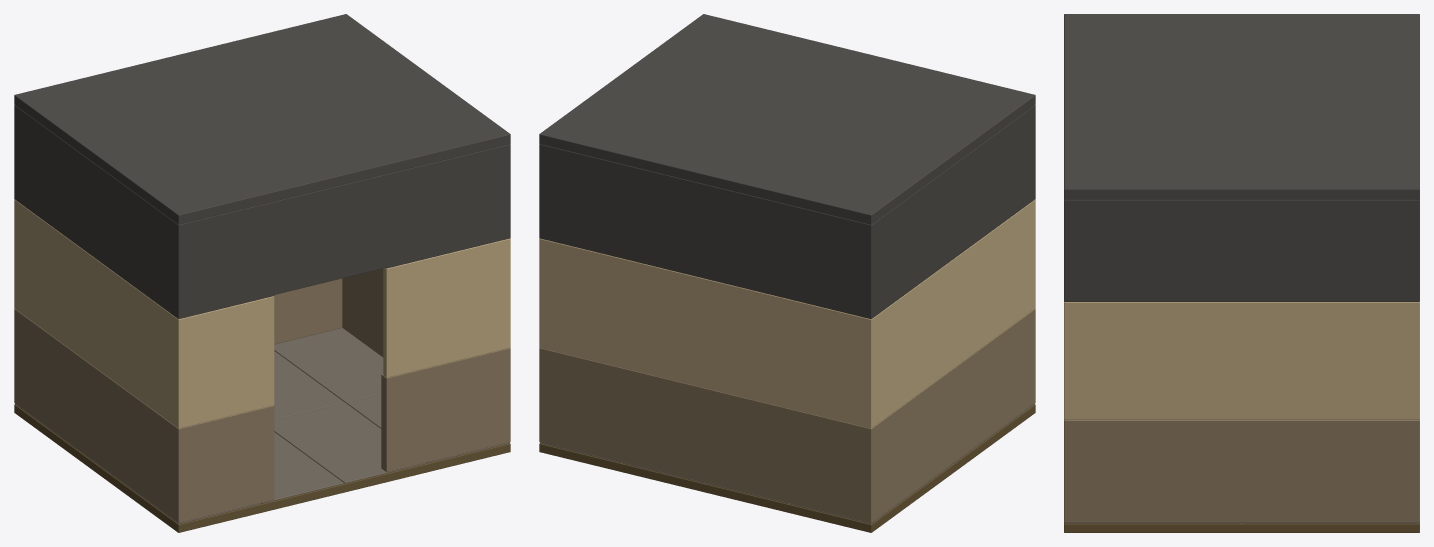
The model's file is gen-comms.glb.
3 views of the same model, side by side, from view 1: azimuth 30°, elevation 25°; view 2: azimuth 150°, elevation 25°; view 3: azimuth 270°, elevation 25° (orthographic). The views are drawn at different scales.
Parts seen in each view (by area): view 1: THE COMMS; view 2: THE COMMS; view 3: THE COMMS.
Part boxes in pixels (box(x1,y1,x2,y2)): THE COMMS: box(14, 14, 510, 532); THE COMMS: box(539, 14, 1035, 532); THE COMMS: box(1064, 14, 1419, 532).
Size of the model in its own units: 3.5 by 3.2 by 3.
